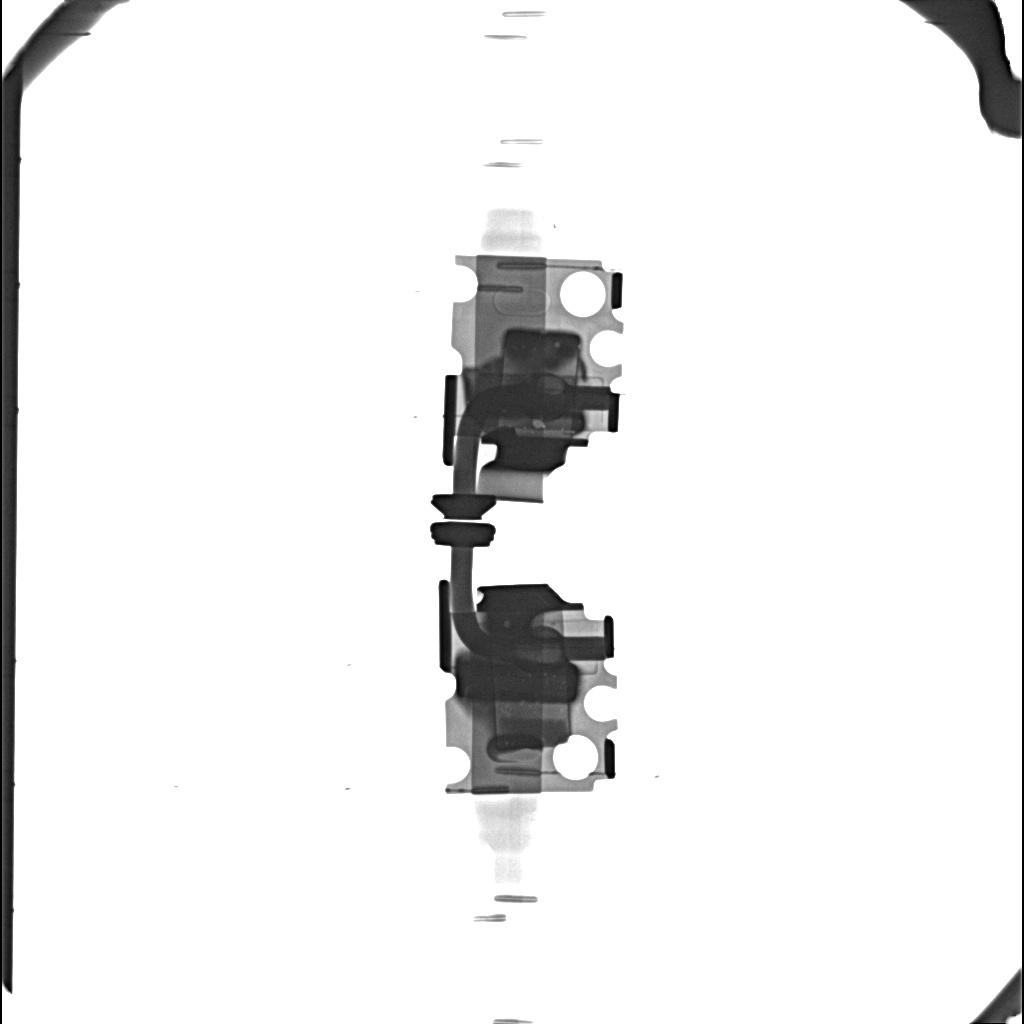气孔: (501, 329, 580, 380), (493, 702, 571, 751)
气泡: (533, 420, 545, 428)
水纹: (457, 657, 578, 702), (483, 377, 574, 418)
